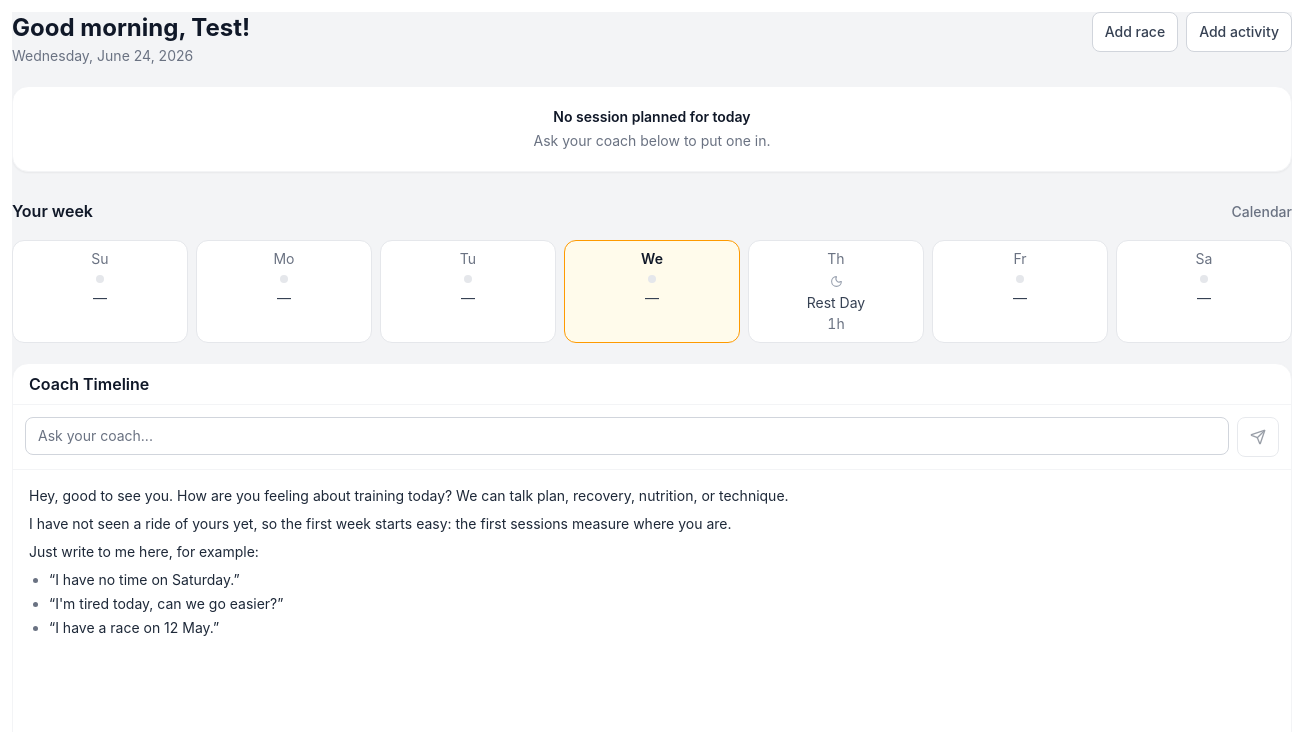
DashboardPage — Today's status strip › shows the rest of the week as its own days
This screenshot has width=1304, height=732.
Expected: the heading "Your week" is shown, left=12, top=199, right=93, bottom=223
Click the button "Th Rest Day 1h": (836, 291) left=748, top=240, right=924, bottom=342
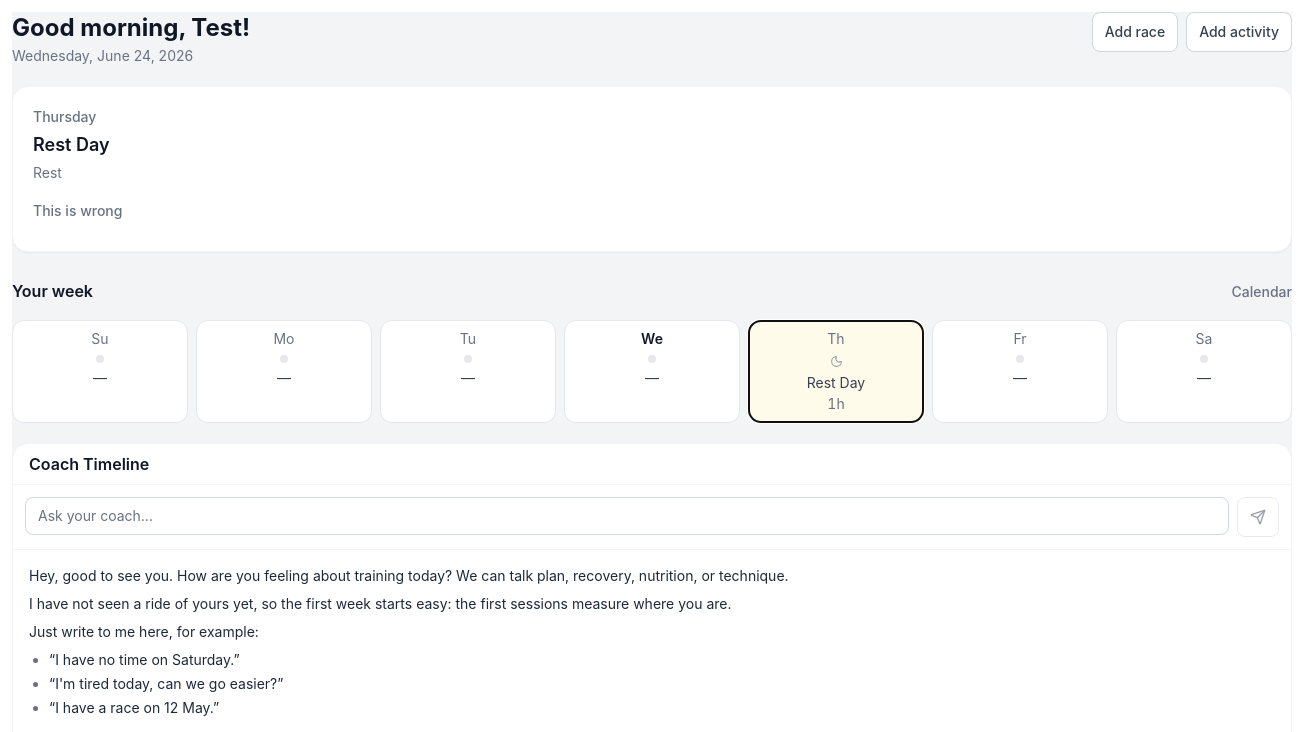
Result: the heading "Rest Day" is shown at left=33, top=134, right=110, bottom=155
